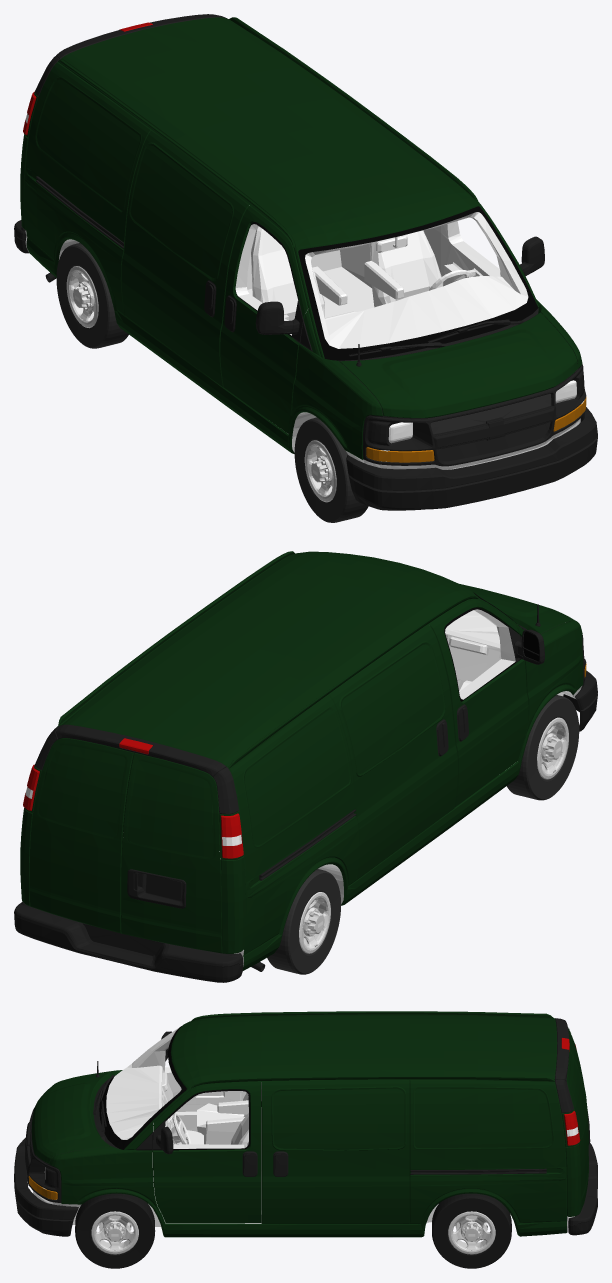
File: urban-verde.glb
3 renders of one model, top to bottom at view 1: azimuth 30°, elevation 25°; view 2: azimuth 150°, elevation 25°; view 3: azimuth 270°, elevation 25°, orthographic. The views are drawn at different scales.
Visible parts, largest first — view 1: CG:car_chevrolet_express_2003_Mesh_lod0M_TrafficCarpaint_Max, CG:car_chevrolet_express_2003_Mesh_lod0M_TrafficOpaque_Chrom, CG:car_chevrolet_express_2003_Mesh_lod0M_TrafficInterior_Max, CG:car_chevrolet_express_2003_Mesh_lod0M_TrafficGlassOpaque_, CG:W2_CG:phong11SG1_0, CG:W4_CG:phong11SG1_0, CG:car_chevrolet_express_2003_Mesh_lod0M_TrafficGrilleA_Max_, CG:W4Rim_4_CG:phong13SG1_0, CG:W2Rim_2_CG:phong13SG1_0_CGphong13SG1_0.001, CG:car_chevrolet_express_2003_Mesh_lod0M_TrafficChassis_Max_, CG:car_chevrolet_express_2003_Mesh_lod0M_TrafficLightGlass_M, CG:car_chevrolet_express_2003_Mesh_lod0M_TrafficLight_Max_CG; view 2: CG:car_chevrolet_express_2003_Mesh_lod0M_TrafficCarpaint_Max, CG:car_chevrolet_express_2003_Mesh_lod0M_TrafficOpaque_Chrom, CG:car_chevrolet_express_2003_Mesh_lod0M_TrafficInterior_Max, CG:W4_CG:phong11SG1_0, CG:W2_CG:phong11SG1_0, CG:W2Rim_2_CG:phong13SG1_0_CGphong13SG1_0.001, CG:W4Rim_4_CG:phong13SG1_0, CG:car_chevrolet_express_2003_Mesh_lod0M_TrafficLightGlass_M, CG:car_chevrolet_express_2003_Mesh_lod0M_TrafficGlassOpaque_, CG:car_chevrolet_express_2003_Mesh_lod0M_TrafficLicensePlate; view 3: CG:car_chevrolet_express_2003_Mesh_lod0M_TrafficCarpaint_Max, CG:car_chevrolet_express_2003_Mesh_lod0M_TrafficOpaque_Chrom, CG:car_chevrolet_express_2003_Mesh_lod0M_TrafficInterior_Max, CG:W1_CG:phong11SG1_0, CG:W3_CG:phong11SG1_0, CG:W3Rim_3_CG:phong13SG1_0_CGphong13SG1_0.001, CG:W1RIM_1_CG:phong13SG1_0_CGphong13SG1_0.001, CG:car_chevrolet_express_2003_Mesh_lod0M_TrafficGlassOpaque_, CG:car_chevrolet_express_2003_Mesh_lod0M_TrafficLightGlass_M, CG:car_chevrolet_express_2003_Mesh_lod0M_TrafficChassis_Max_.
Part boxes in pixels (x1,y1,x2,y2): CG:car_chevrolet_express_2003_Mesh_lod0M_TrafficCarpaint_Max: [20, 17, 582, 459]; CG:car_chevrolet_express_2003_Mesh_lod0M_TrafficOpaque_Chrom: [14, 14, 597, 510]; CG:car_chevrolet_express_2003_Mesh_lod0M_TrafficInterior_Max: [235, 205, 528, 433]; CG:car_chevrolet_express_2003_Mesh_lod0M_TrafficGlassOpaque_: [235, 206, 538, 360]; CG:W2_CG:phong11SG1_0: [294, 417, 368, 522]; CG:W4_CG:phong11SG1_0: [56, 243, 128, 348]; CG:car_chevrolet_express_2003_Mesh_lod0M_TrafficGrilleA_Max_: [430, 393, 551, 461]; CG:W4Rim_4_CG:phong13SG1_0: [66, 266, 98, 328]; CG:W2Rim_2_CG:phong13SG1_0_CGphong13SG1_0.001: [304, 440, 336, 502]; CG:car_chevrolet_express_2003_Mesh_lod0M_TrafficChassis_Max_: [25, 230, 580, 469]; CG:car_chevrolet_express_2003_Mesh_lod0M_TrafficLightGlass_M: [366, 397, 586, 462]; CG:car_chevrolet_express_2003_Mesh_lod0M_TrafficLight_Max_CG: [25, 113, 583, 461]; CG:car_chevrolet_express_2003_Mesh_lod0M_TrafficCarpaint_Max: [20, 551, 583, 970]; CG:car_chevrolet_express_2003_Mesh_lod0M_TrafficOpaque_Chrom: [14, 604, 597, 982]; CG:car_chevrolet_express_2003_Mesh_lod0M_TrafficInterior_Max: [445, 609, 515, 699]; CG:W4_CG:phong11SG1_0: [267, 869, 340, 974]; CG:W2_CG:phong11SG1_0: [506, 695, 579, 800]; CG:W2Rim_2_CG:phong13SG1_0_CGphong13SG1_0.001: [537, 717, 568, 779]; CG:W4Rim_4_CG:phong13SG1_0: [299, 892, 330, 953]; CG:car_chevrolet_express_2003_Mesh_lod0M_TrafficLightGlass_M: [23, 738, 243, 858]; CG:car_chevrolet_express_2003_Mesh_lod0M_TrafficGlassOpaque_: [444, 592, 539, 701]; CG:car_chevrolet_express_2003_Mesh_lod0M_TrafficLicensePlate: [146, 874, 181, 900]; CG:car_chevrolet_express_2003_Mesh_lod0M_TrafficCarpaint_Max: [31, 1011, 588, 1237]; CG:car_chevrolet_express_2003_Mesh_lod0M_TrafficOpaque_Chrom: [14, 1018, 597, 1236]; CG:car_chevrolet_express_2003_Mesh_lod0M_TrafficInterior_Max: [106, 1028, 261, 1223]; CG:W1_CG:phong11SG1_0: [75, 1193, 155, 1268]; CG:W3_CG:phong11SG1_0: [432, 1193, 511, 1268]; CG:W3Rim_3_CG:phong13SG1_0_CGphong13SG1_0.001: [448, 1211, 495, 1254]; CG:W1RIM_1_CG:phong13SG1_0_CGphong13SG1_0.001: [91, 1211, 138, 1254]; CG:car_chevrolet_express_2003_Mesh_lod0M_TrafficGlassOpaque_: [99, 1026, 250, 1150]; CG:car_chevrolet_express_2003_Mesh_lod0M_TrafficLightGlass_M: [561, 1038, 580, 1145]; CG:car_chevrolet_express_2003_Mesh_lod0M_TrafficChassis_Max_: [32, 1190, 574, 1232].
Size of the model in its own units: 3.89 by 3.24 by 9.15.
